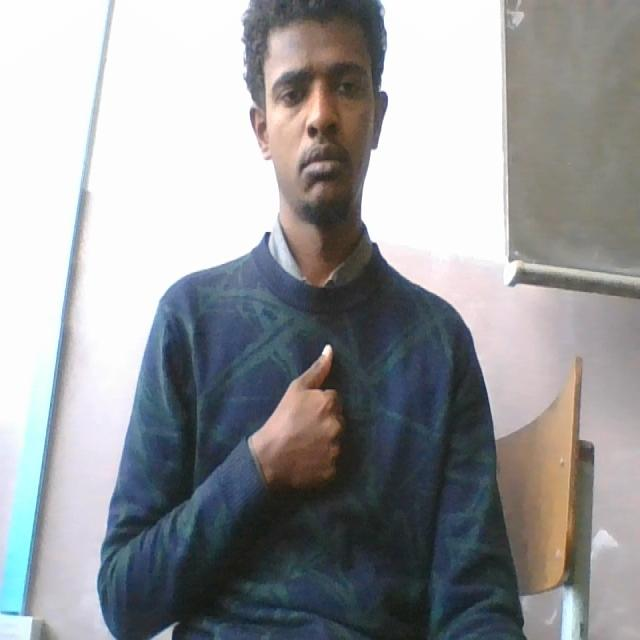yerase: (254, 335, 350, 501)
